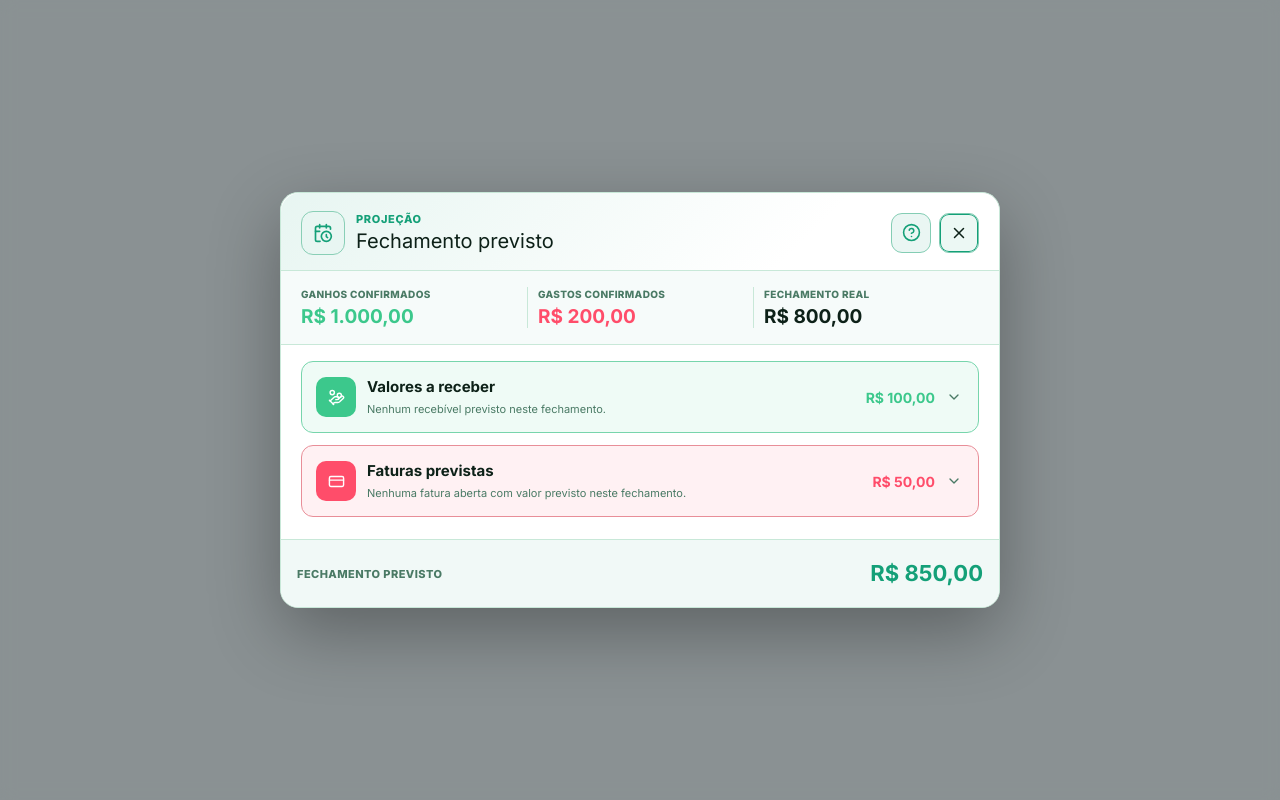
Test: ProjectionBreakdownModal › explains the difference between actual and projected closing
This screenshot has width=1280, height=800.
Check: the header named "entenda a diferença" is shown, box [281, 193, 999, 271]
Click the button named "entenda a diferença": x=911, y=233 [891, 213, 931, 253]
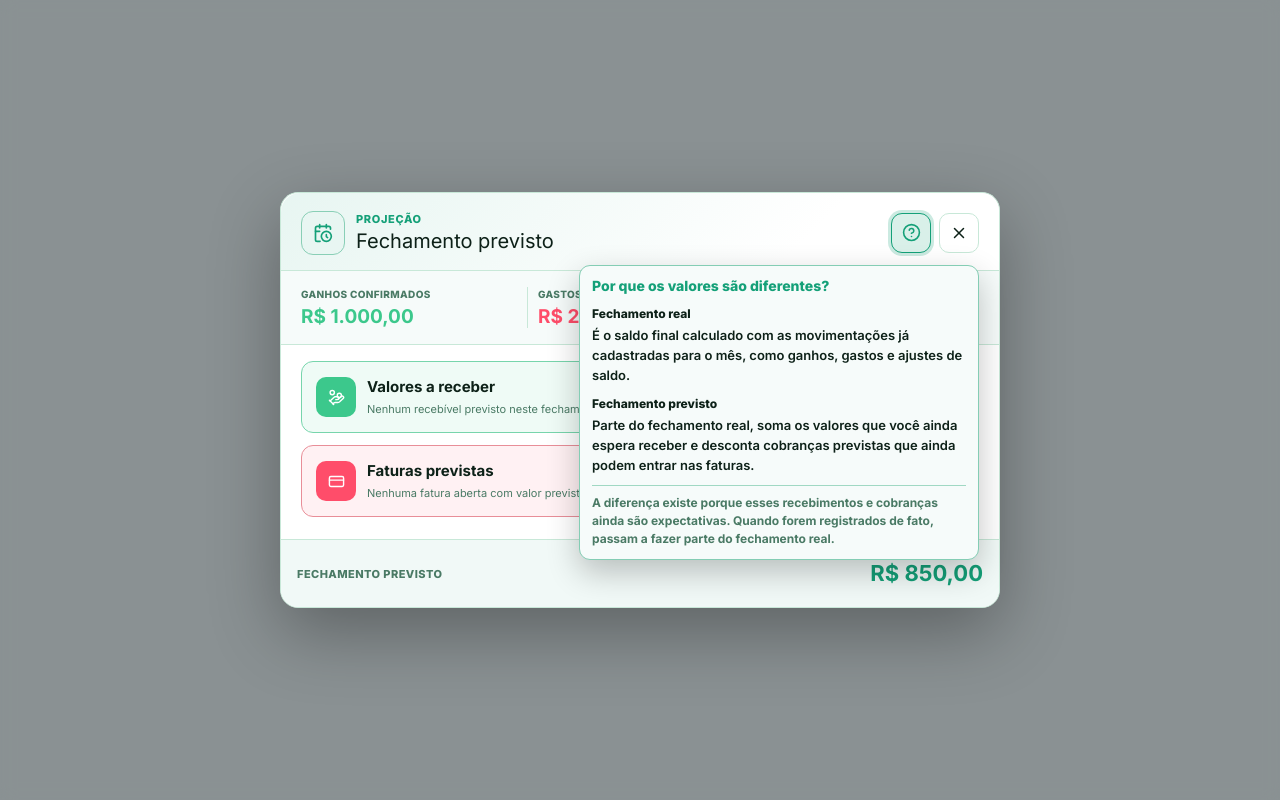
Check: the element that starts with "Por que os valores são diferentes?" is shown, box [592, 277, 829, 294]
Check: the element that starts with "Por que os valores são diferentes?" shows "movimentações já cadastradas para o mês", box [592, 327, 962, 383]
Check: the element that starts with "Por que os valores são diferentes?" shows "soma os valores que você ainda espera receber", box [592, 417, 957, 473]
